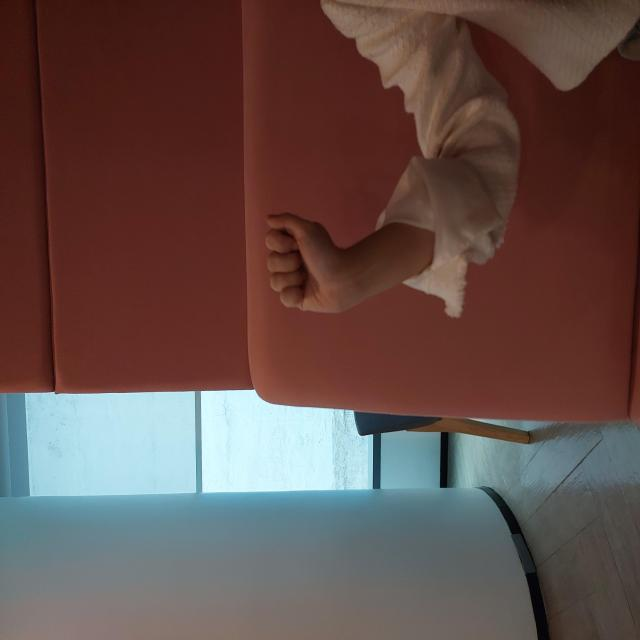A: (326, 264, 428, 336)
